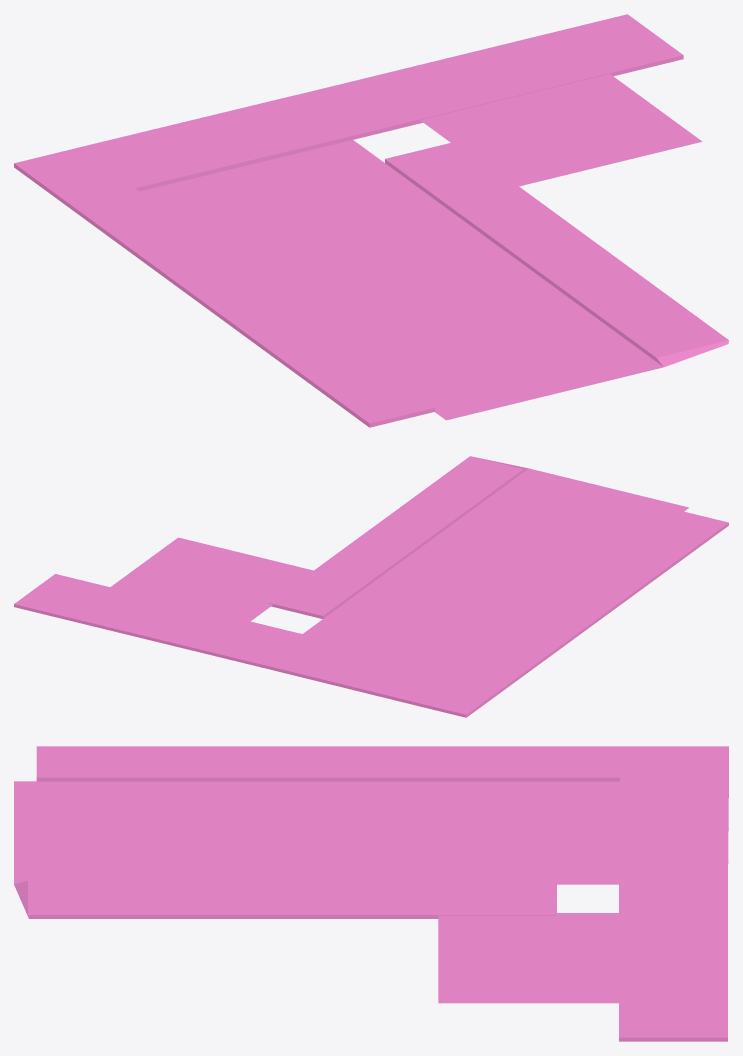
File: InstitutoNavMesh2.5.glb
The picture shows the model from 3 angles, top to bottom: view 1: azimuth 30°, elevation 25°; view 2: azimuth 150°, elevation 25°; view 3: azimuth 270°, elevation 25°; orthographic projection. The views are drawn at different scales.
Visible parts, largest first — view 1: navmesh; view 2: navmesh; view 3: navmesh.
Boxes of the visible parts, box(x1,y1,x2,y2) form: navmesh: box(14, 14, 728, 427); navmesh: box(14, 456, 728, 717); navmesh: box(14, 746, 728, 1041).
Size of the model in its own units: 62.21 by 0.4121 by 64.55.
